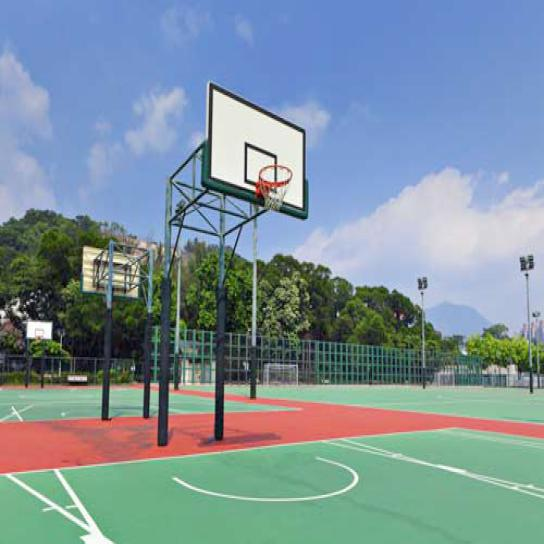basketball-hoop: (257, 162, 294, 212)
